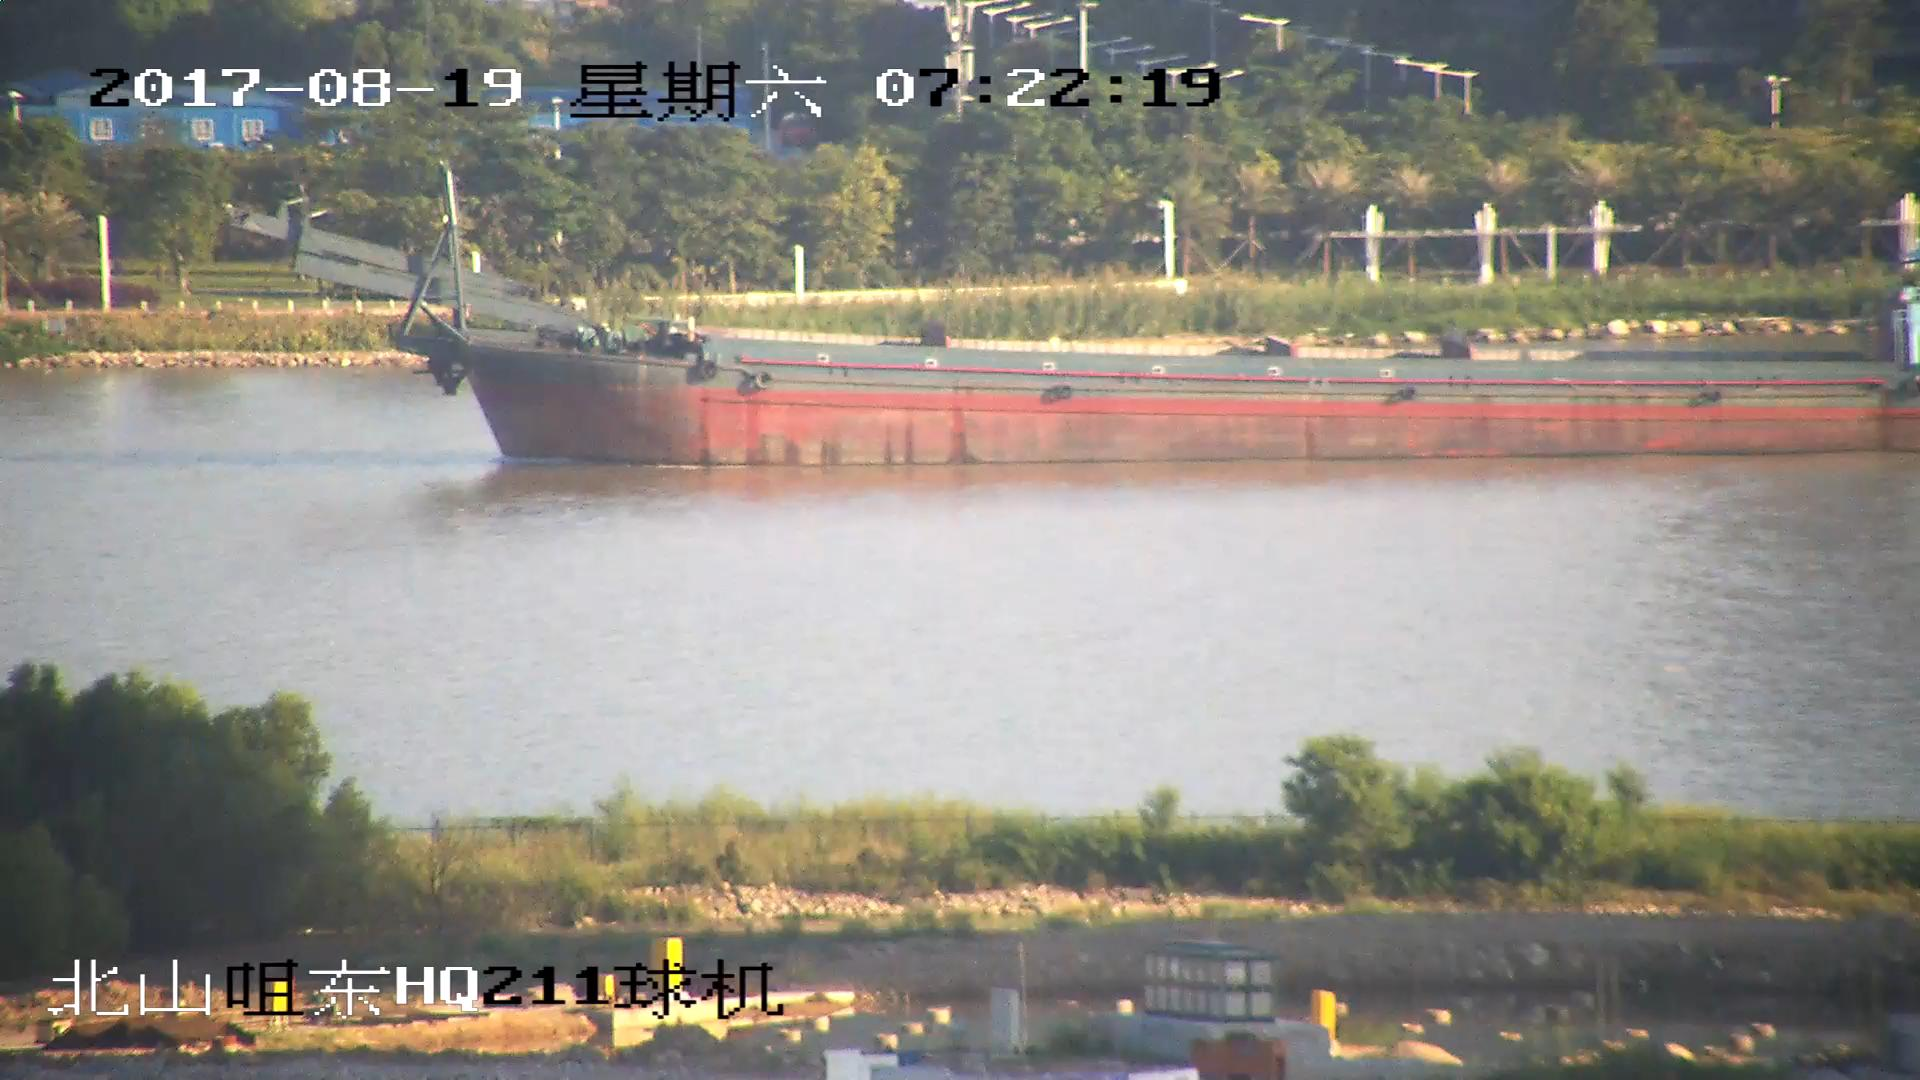bulk cargo carrier: (223, 164, 1920, 466)
